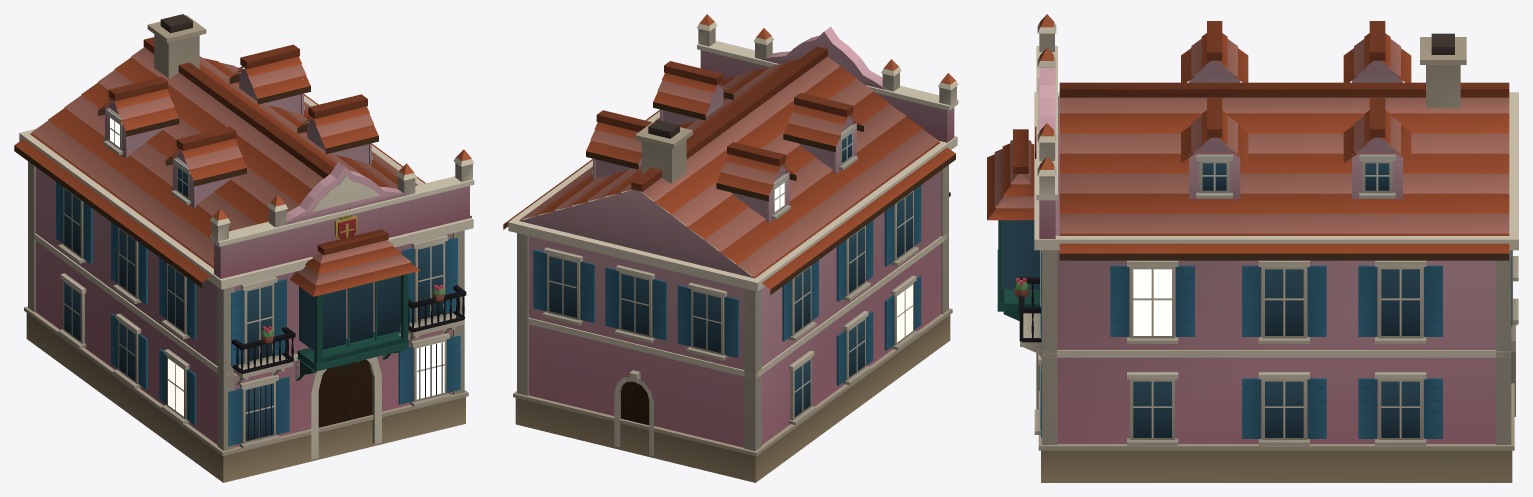
The model's file is casa_colonial_c.glb.
3 views of the same model, side by side, from view 1: azimuth 30°, elevation 25°; view 2: azimuth 150°, elevation 25°; view 3: azimuth 270°, elevation 25° (orthographic). The views are drawn at different scales.
Parts seen in each view (by area): view 1: casa_colonial_c; view 2: casa_colonial_c; view 3: casa_colonial_c.
Part boxes in pixels (x1,y1,x2,y2): casa_colonial_c: (14, 14, 474, 482); casa_colonial_c: (503, 14, 958, 482); casa_colonial_c: (987, 14, 1518, 482).
Size of the model in its own units: 9.64 by 10.58 by 13.72.
